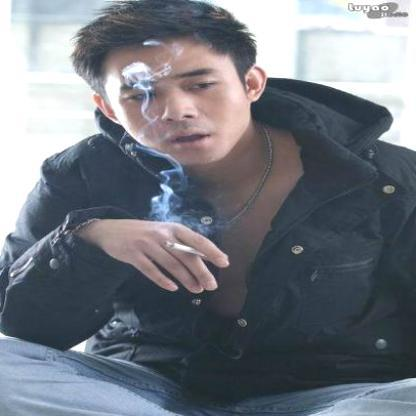cigarette: (156, 238, 210, 260)
person: (3, 0, 415, 415)
smoke: (120, 54, 162, 102), (148, 176, 180, 225)
